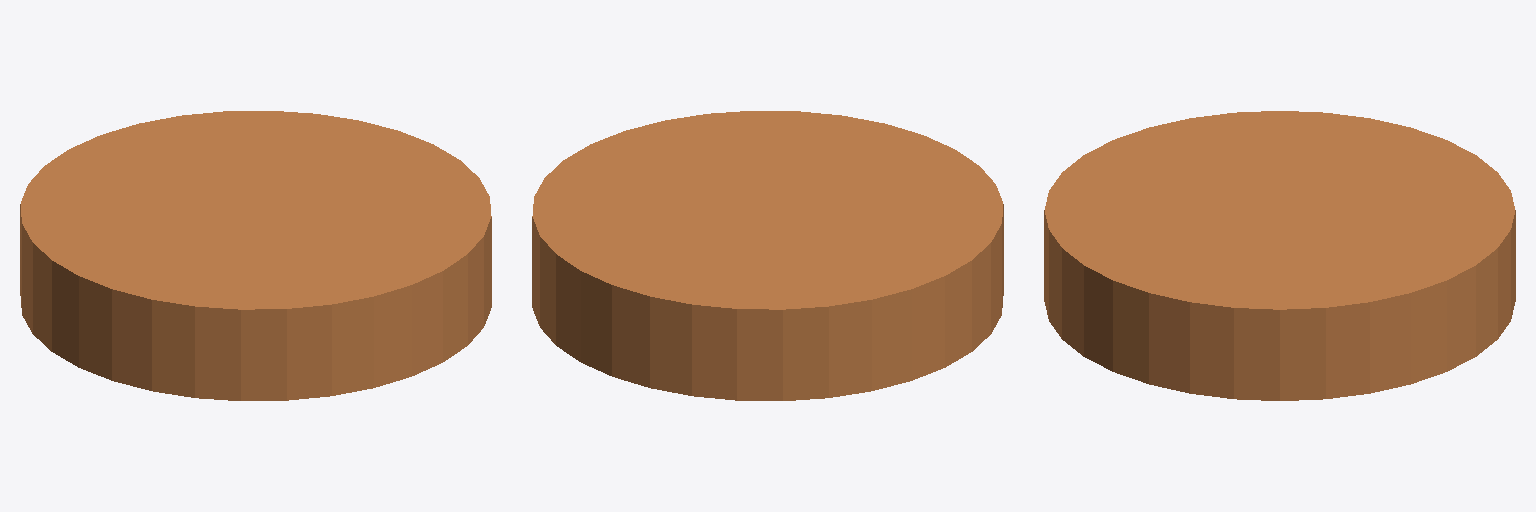
URDF robot description (table_round_large):
<?xml version="1.0"?>
<robot name="table_round_large">
  <link name="table_round_large">
    <visual>
      <material name="wood">
        <color rgba="0.82 0.56 0.35 1.0"/>
      </material>
      <!-- Diameter matches the 1.4 m long side of table_narrow_large. -->
      <!-- Keep the 30 cm thickness so the tabletop remains at +0.15 m. -->
      <origin xyz="0 0 0"/>
      <geometry>
        <cylinder radius="0.7" length="0.3"/>
      </geometry>
    </visual>
    <collision>
      <origin xyz="0 0 0"/>
      <geometry>
        <cylinder radius="0.7" length="0.3"/>
      </geometry>
    </collision>
    <inertial>
      <mass value="500"/>
      <friction value="1.0"/>
      <inertia ixx="1000.0" ixy="0.0" ixz="0.0" iyy="1000.0" iyz="0.0" izz="1000.0"/>
    </inertial>
  </link>
</robot>

--- Render facts (derived) ---
3 views of the same robot in one strip: view 1: azimuth 30°, elevation 25°; view 2: azimuth 150°, elevation 25°; view 3: azimuth 270°, elevation 25° (orthographic).
Model table_round_large with 1 links and 0 joints (none), rooted at table_round_large, posed all joints at 0.
Visible links, largest first — view 1: table_round_large; view 2: table_round_large; view 3: table_round_large.
Boxes of the visible links, left/top/right/bottom form: table_round_large: left=20, top=111, right=491, bottom=400; table_round_large: left=532, top=111, right=1003, bottom=400; table_round_large: left=1044, top=111, right=1515, bottom=400.
Size in the robot's own frame: 1.4 by 1.4 by 0.3 metres.
Geometry: primitives only (box / cylinder / sphere), no mesh files.
